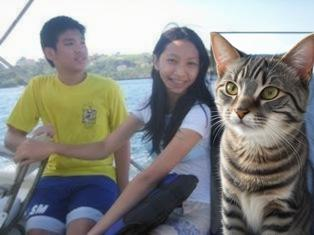cat: (210, 32, 314, 235)
person: (16, 28, 217, 235), (4, 16, 132, 235)
